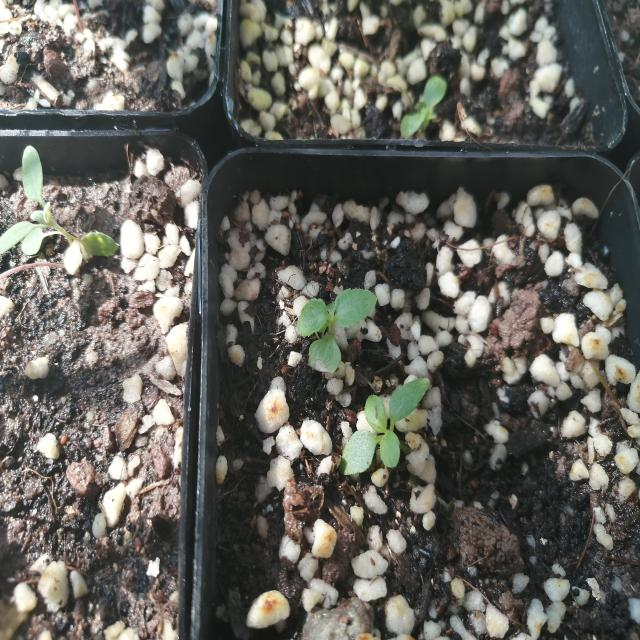billygoat_weed: (341, 363, 434, 492), (294, 281, 377, 386)
